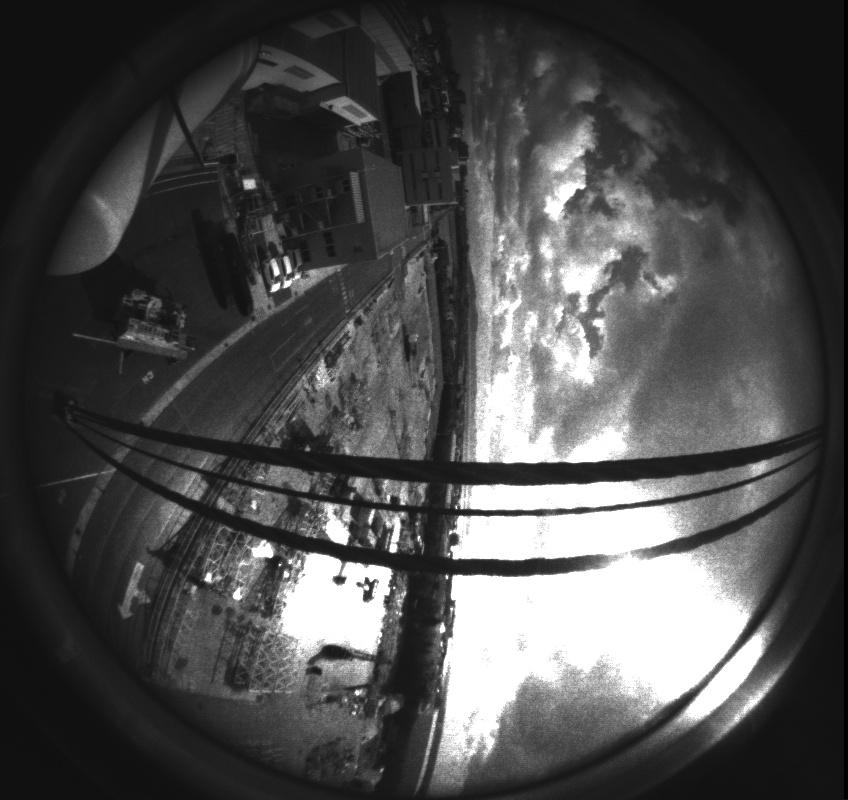rope: (3, 384, 844, 584)
